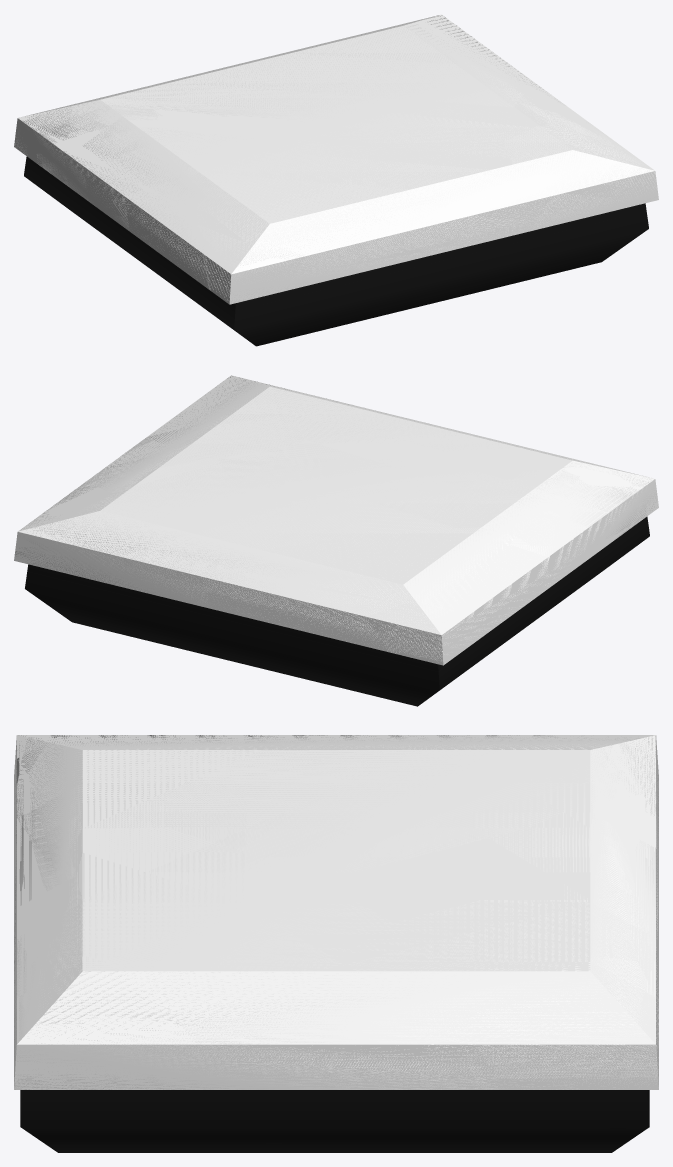
File: Plastic_Box_C.FBX
3 views of the same model, one above another, from view 1: azimuth 30°, elevation 25°; view 2: azimuth 150°, elevation 25°; view 3: azimuth 270°, elevation 25° (orthographic). The views are drawn at different scales.
Visible parts, largest first — view 1: Plastic_LidC, Plastic_Box_C; view 2: Plastic_LidC, Plastic_Box_C; view 3: Plastic_LidC, Plastic_Box_C.
Part boxes in pixels (bbox=[...]): Plastic_LidC: bbox=[14, 14, 658, 304]; Plastic_Box_C: bbox=[24, 156, 648, 346]; Plastic_LidC: bbox=[14, 375, 658, 665]; Plastic_Box_C: bbox=[25, 516, 649, 706]; Plastic_LidC: bbox=[14, 735, 658, 1089]; Plastic_Box_C: bbox=[20, 1090, 649, 1152].
Bounding box in the file's own units: 115 × 28.35 × 99.57.
